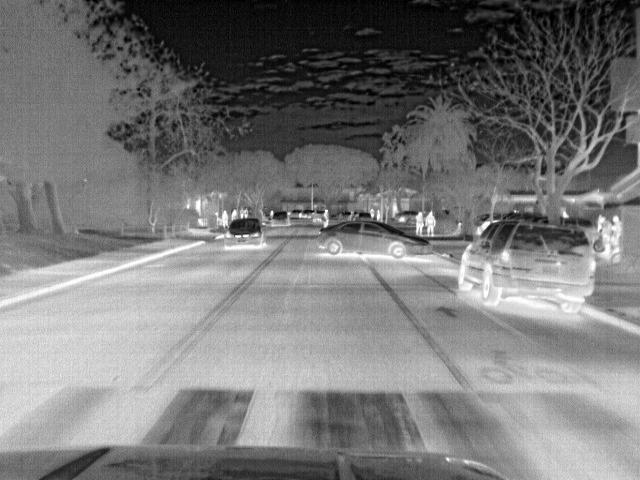car: (456, 220, 595, 313), (316, 220, 433, 260), (223, 216, 265, 248), (267, 210, 295, 228), (392, 209, 418, 224)
person: (596, 214, 612, 260), (609, 215, 622, 256), (413, 209, 427, 239), (424, 210, 437, 238), (319, 207, 333, 229)
